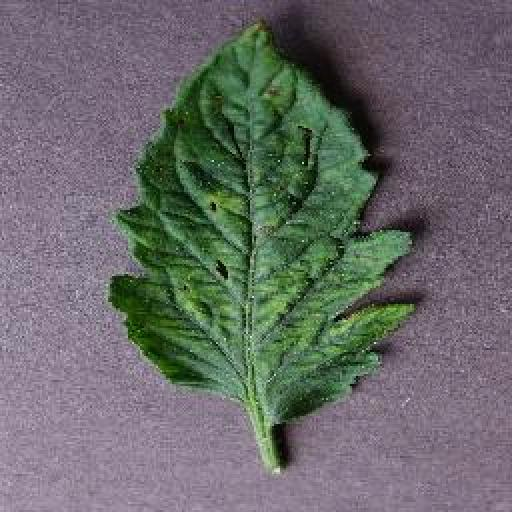disease_tomato: (112, 16, 426, 420)
